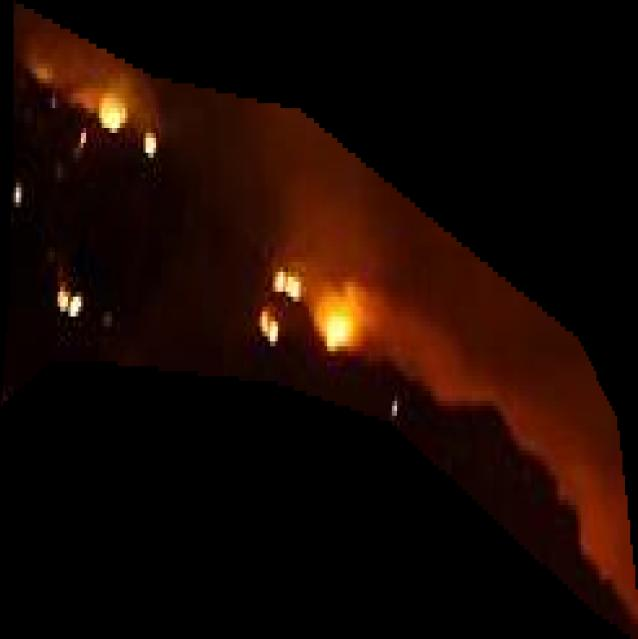fire: (0, 1, 638, 638)
